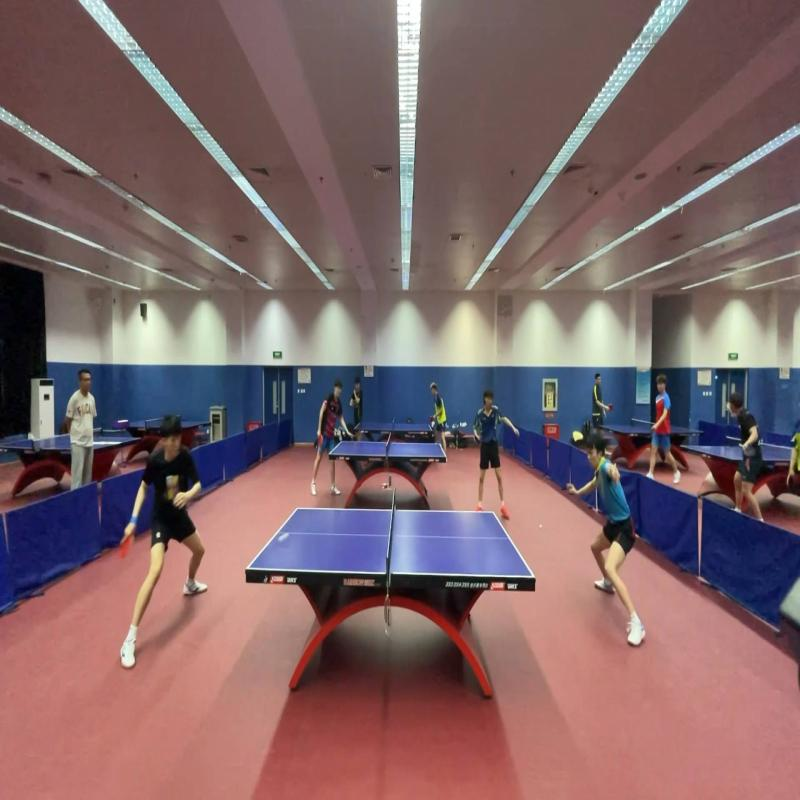bats: (118, 530, 137, 562)
